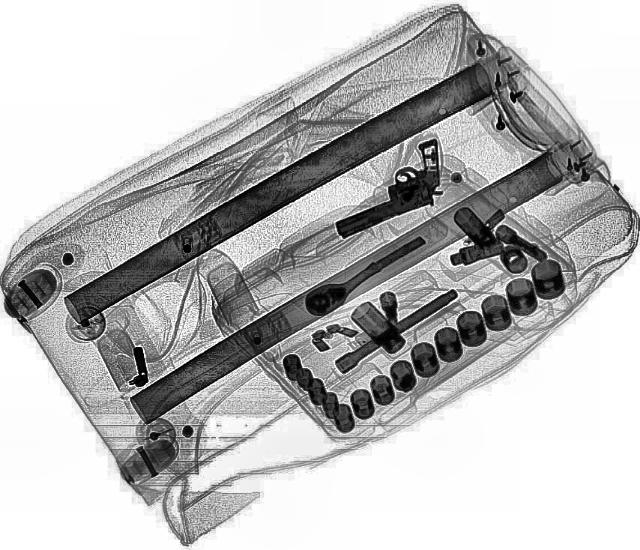Gun: (306, 136, 470, 244)
